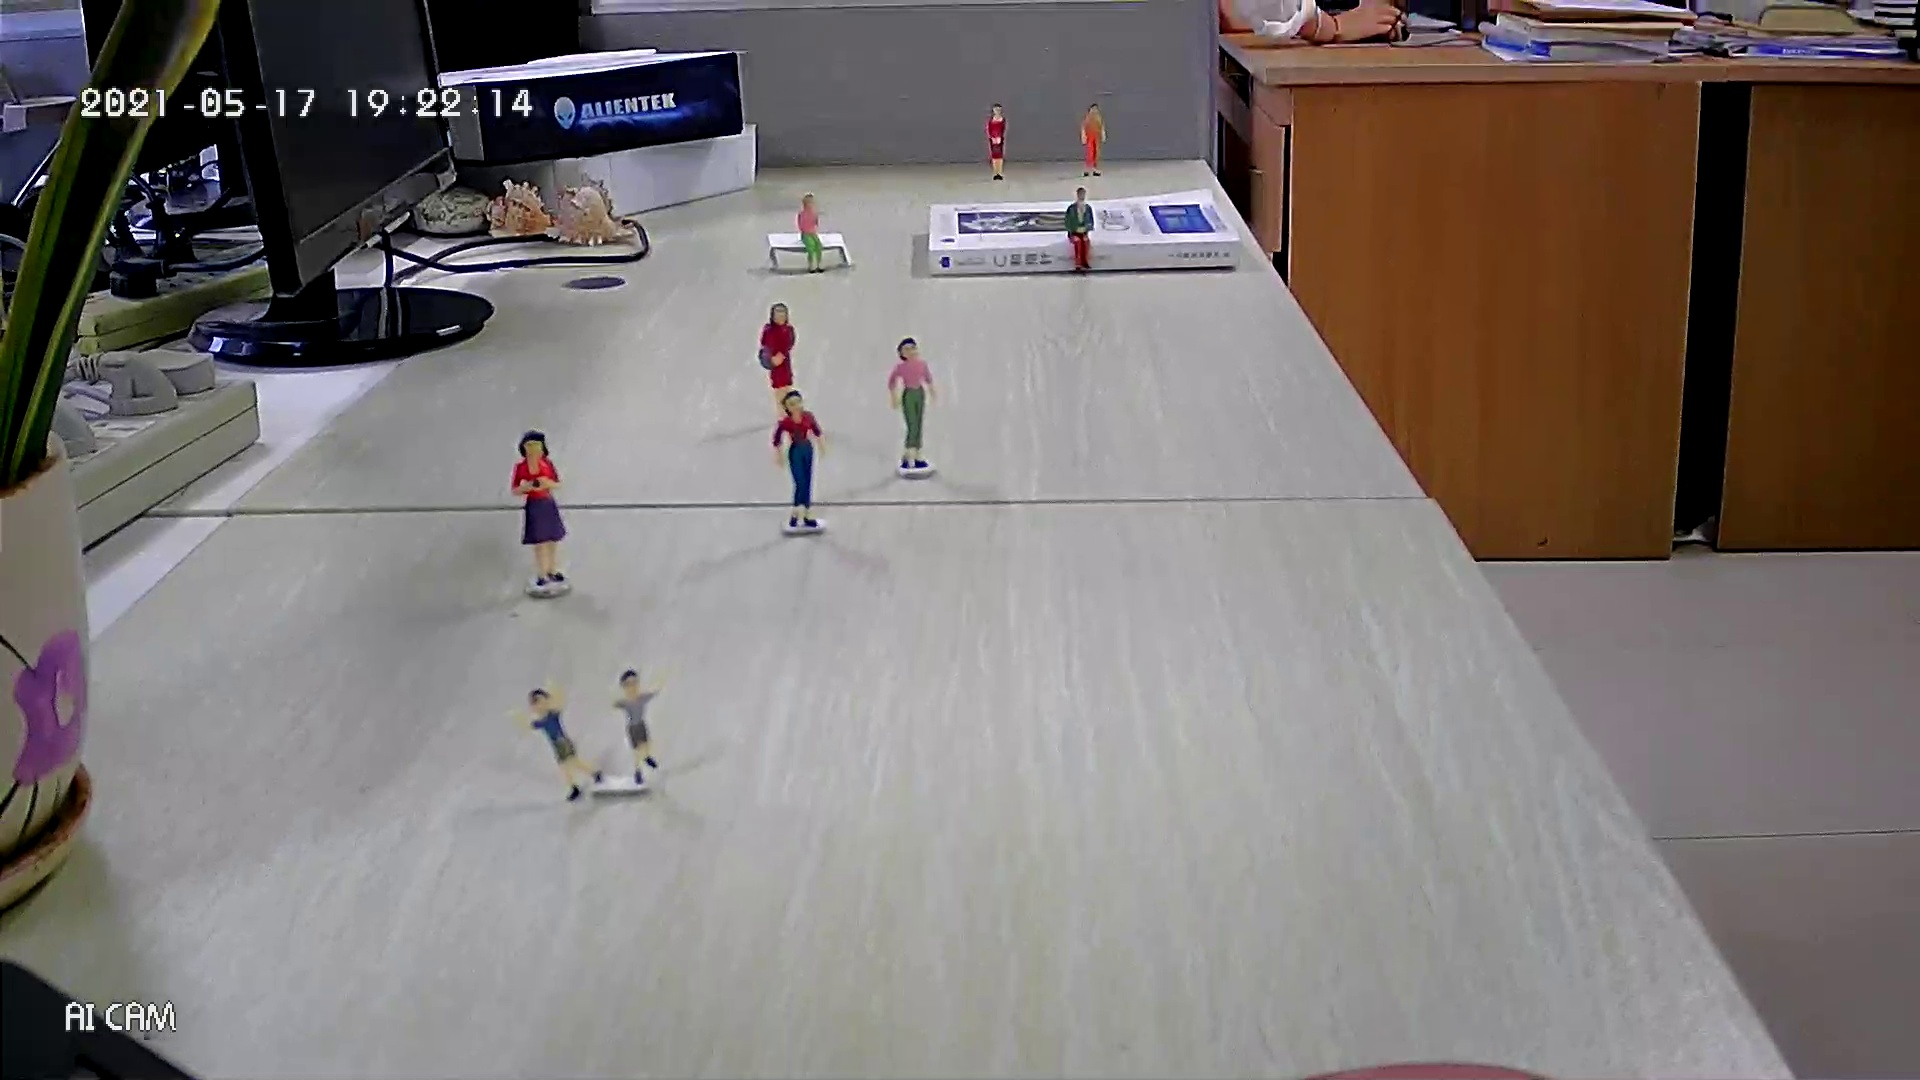person: (511, 674, 607, 806), (597, 666, 675, 788), (509, 430, 569, 588), (885, 330, 941, 470), (773, 392, 829, 528), (757, 300, 799, 424), (1061, 182, 1099, 280), (795, 192, 831, 278), (983, 98, 1011, 184), (1079, 100, 1109, 178)
